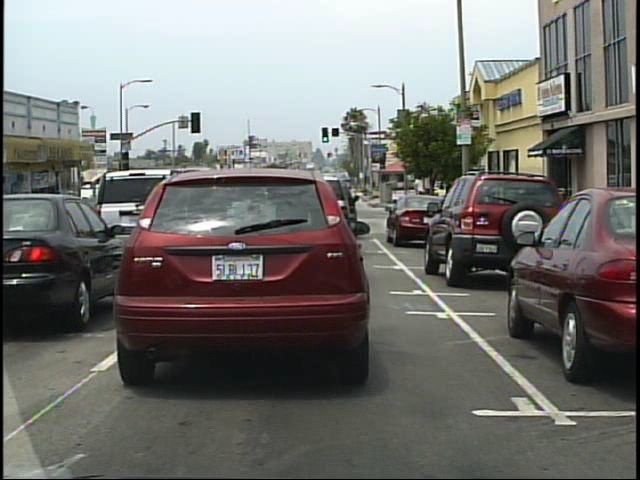person: (423, 188, 435, 223), (419, 190, 428, 222)
